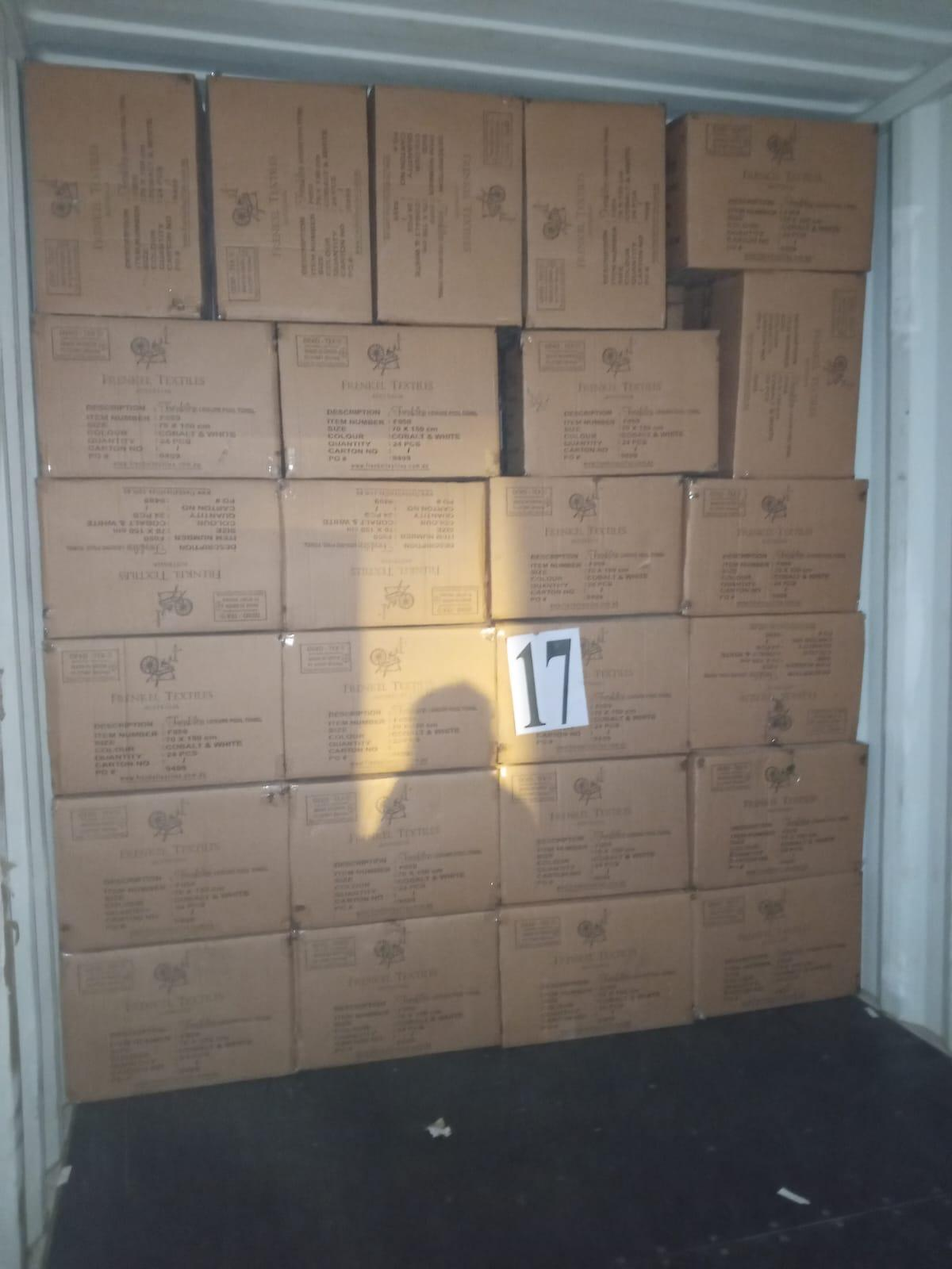carton: (25, 64, 202, 316), (205, 75, 369, 319), (41, 629, 274, 798), (49, 784, 283, 949), (40, 316, 276, 476), (60, 934, 286, 1097), (368, 83, 520, 323), (39, 481, 274, 636), (520, 98, 668, 329), (665, 110, 872, 274), (276, 322, 493, 477), (697, 271, 861, 474), (291, 912, 498, 1071), (283, 626, 493, 779), (279, 485, 491, 636), (287, 773, 496, 926), (497, 891, 693, 1047), (512, 328, 713, 480), (490, 474, 691, 623), (496, 754, 690, 902), (489, 616, 686, 761), (688, 738, 866, 889), (693, 872, 862, 1022), (682, 608, 862, 748), (684, 476, 862, 617)
